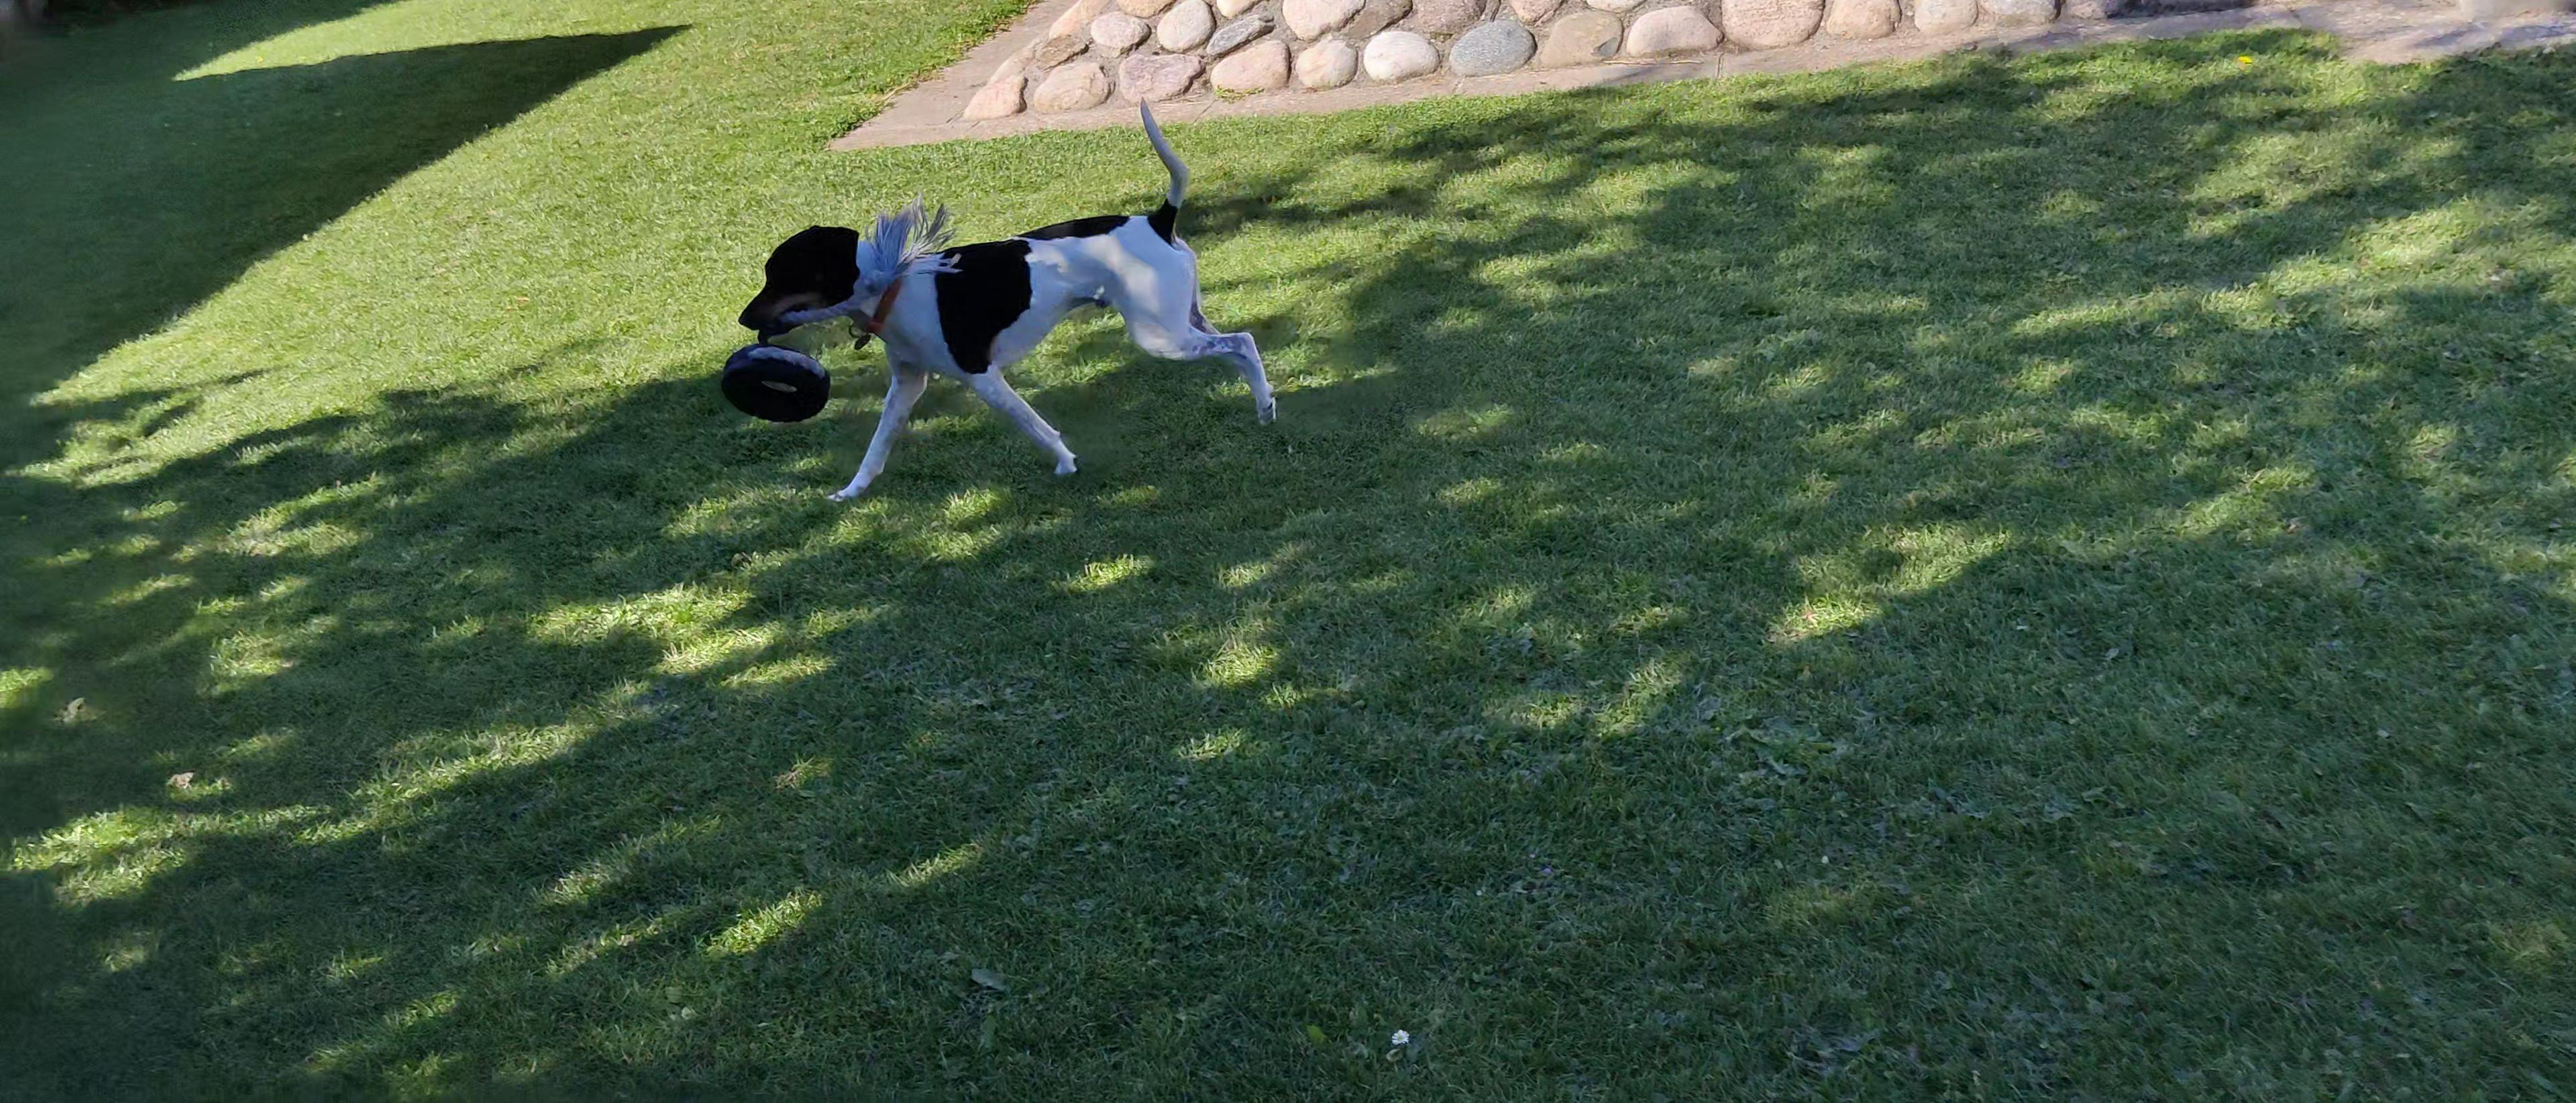Dog: (726, 90, 1303, 518)
